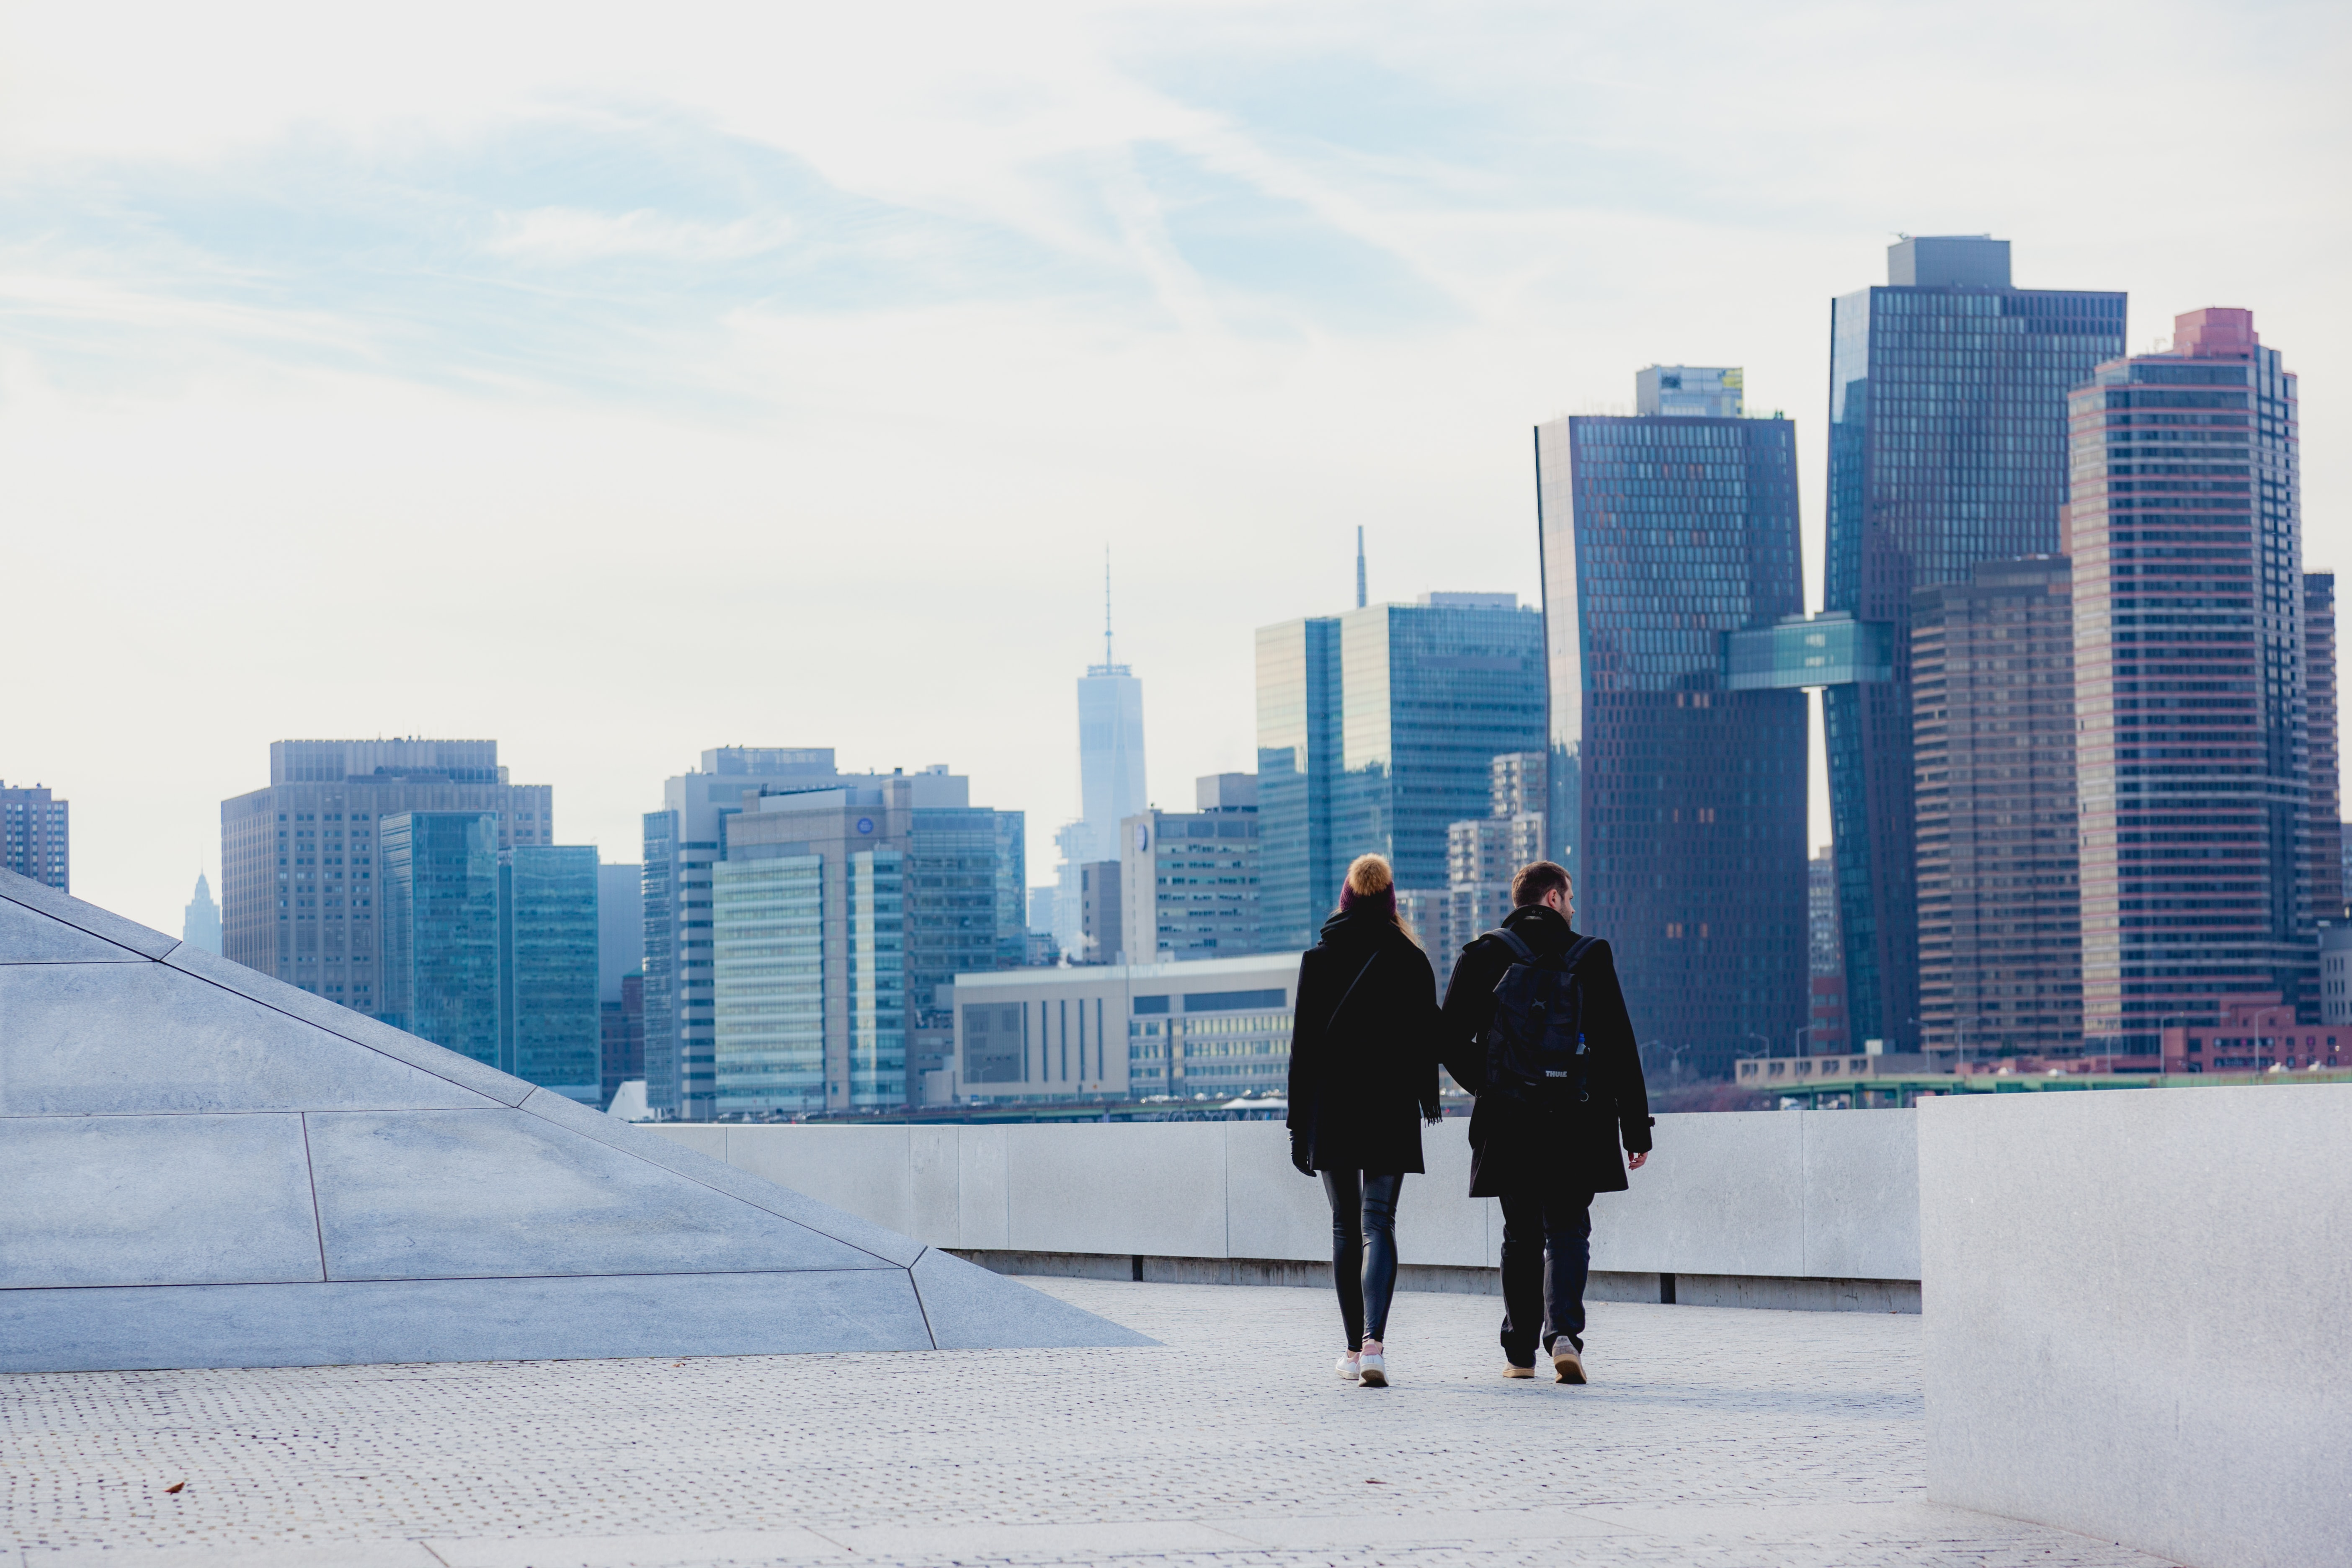person: (1433, 854, 1631, 1411), (1284, 853, 1433, 1394)
